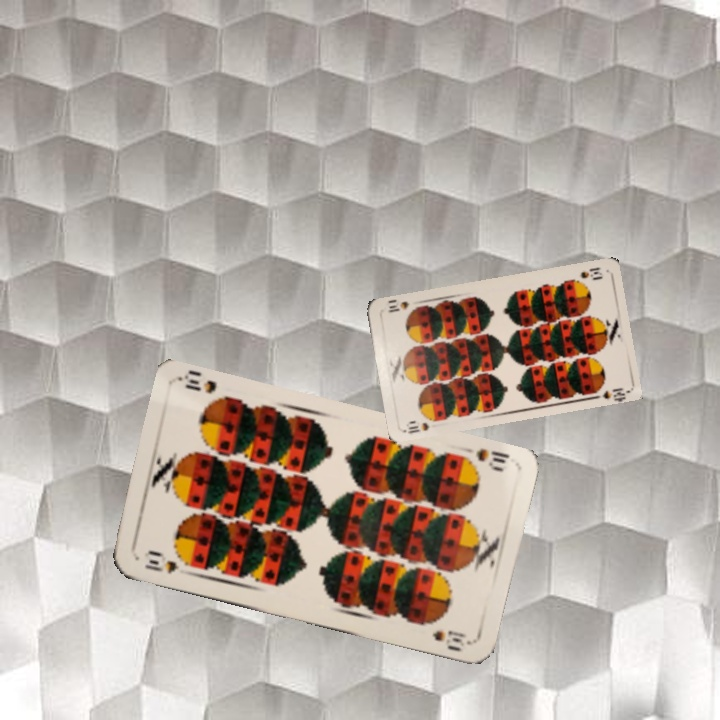S10: (472, 444, 512, 474), (140, 549, 180, 577), (401, 413, 440, 436), (576, 263, 605, 282)
